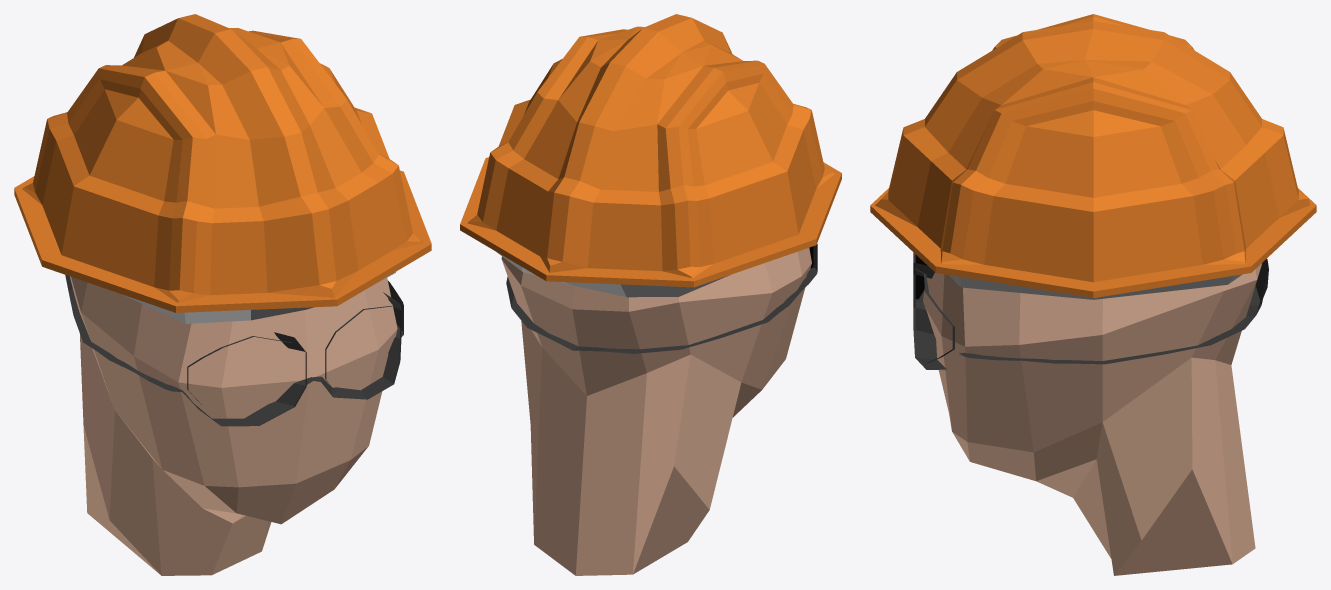
Rendered from Cabeça Engineer.glb.
3 renders of one model, left to right at view 1: azimuth 30°, elevation 25°; view 2: azimuth 150°, elevation 25°; view 3: azimuth 270°, elevation 25°, orthographic. The views are drawn at different scales.
Parts seen in each view (by area): view 1: Cube; view 2: Cube; view 3: Cube.
Part boxes in pixels (<box>): Cube: <box>14,14,431,575</box>; Cube: <box>460,14,841,575</box>; Cube: <box>870,14,1316,575</box>.
Bounding box in the file's own units: 1.77 × 2.57 × 1.93.
